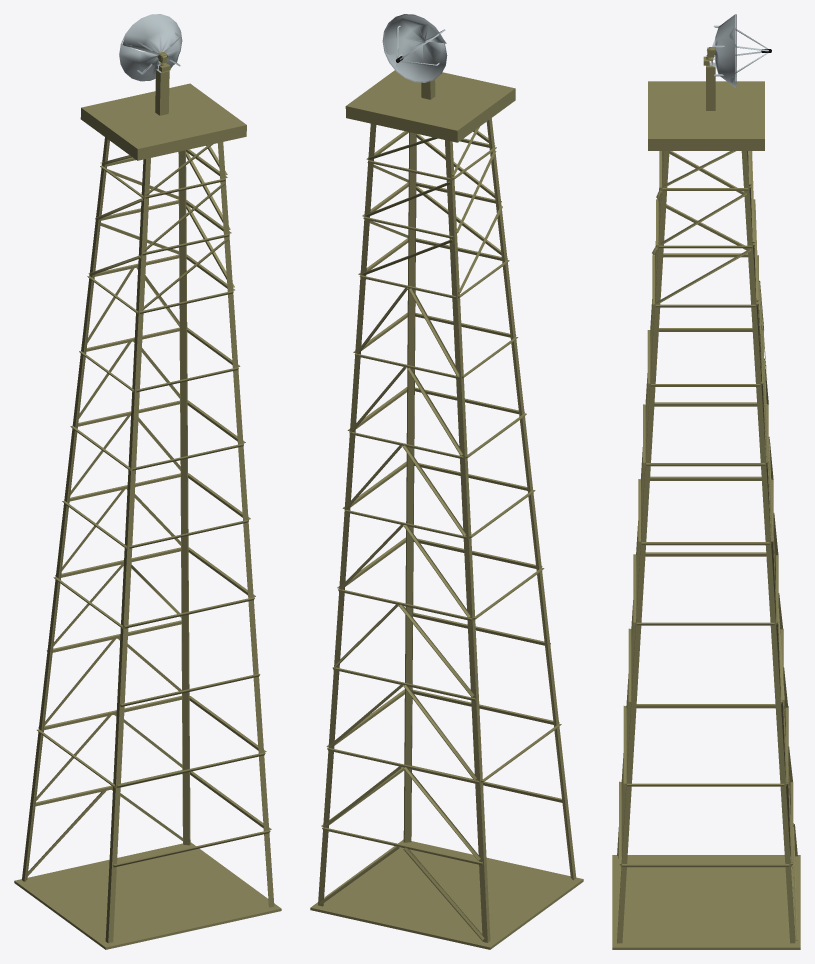
Rendered from HFDFLOD0.glb.
3 views of the same model, side by side, from view 1: azimuth 30°, elevation 25°; view 2: azimuth 150°, elevation 25°; view 3: azimuth 270°, elevation 25° (orthographic). The views are drawn at different scales.
Visible parts, largest first — view 1: Frame4_lambert1_0; view 2: Frame4_lambert1_0; view 3: Frame4_lambert1_0.
Part boxes in pixels (left/top/right/bottom): Frame4_lambert1_0: left=14, top=14, right=281, bottom=949; Frame4_lambert1_0: left=310, top=14, right=583, bottom=949; Frame4_lambert1_0: left=612, top=14, right=800, bottom=949.
Bounding box in the file's own units: 36.82 × 174 × 33.12.
